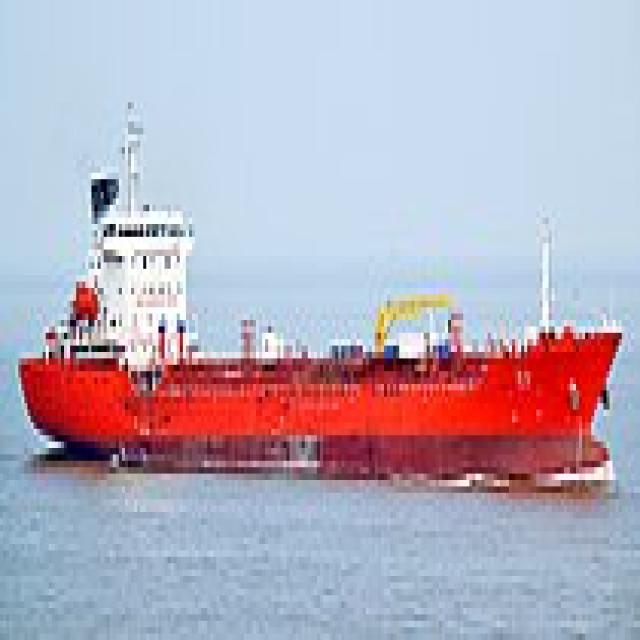Tanker: (12, 83, 622, 474)
